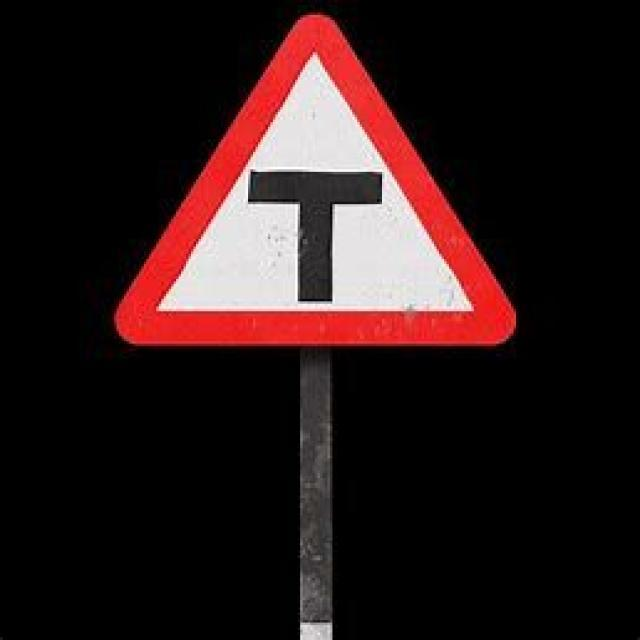t intersection: (112, 17, 513, 345)
